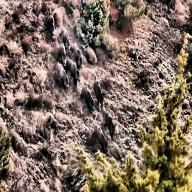boar: (96, 124, 112, 150), (53, 60, 67, 88), (81, 80, 93, 109), (94, 78, 104, 111), (106, 112, 119, 136)
